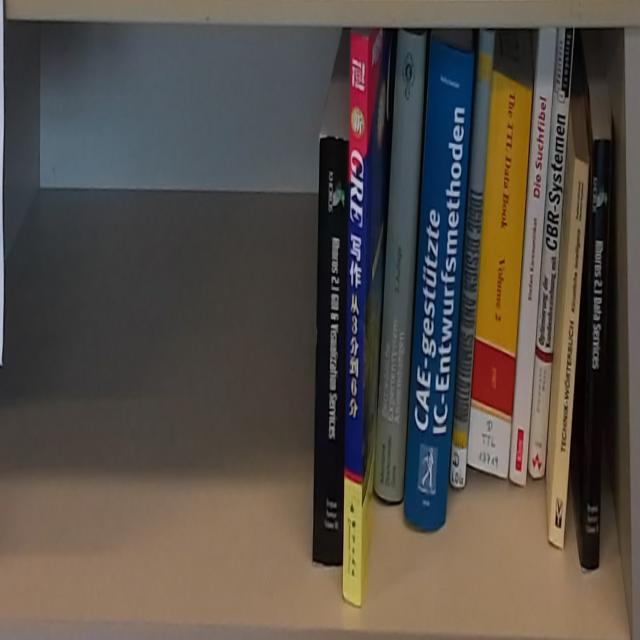Book Spine: (405, 41, 473, 530), (467, 69, 534, 481), (372, 28, 427, 503), (509, 24, 558, 491), (528, 26, 575, 479), (449, 30, 495, 491), (548, 157, 590, 553), (313, 136, 349, 569), (343, 30, 367, 611), (582, 138, 612, 574)
